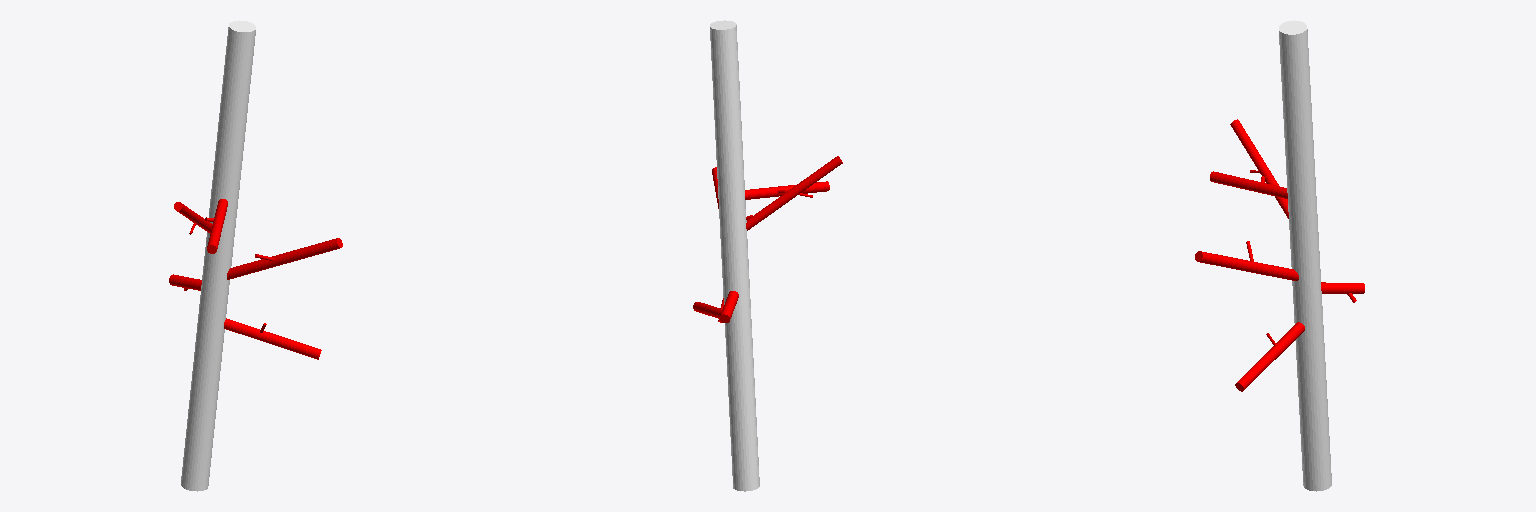
URDF robot description (tree_36.urdf):
<?xml version='1.0' encoding='UTF-8'?>
<robot name="tree_36.urdf">
  <link name="branch_0">
    <inertial>
      <origin xyz="0.0 0.0 0.0" rpy="0.0 -0.0 0.0"/>
      <mass value="0.1"/>
      <inertia ixx="0.001" ixy="0.0" ixz="0.0" iyy="0.001" iyz="0.0" izz="0.001"/>
    </inertial>
    <visual name="branch_0_visual">
      <geometry>
        <cylinder radius="0.18252775451520825" length="6.6563319726581875"/>
      </geometry>
      <material name="branch_material"/>
      <origin xyz="0.27218190189637453 -0.15615376392454944 3.313339983589094" rpy="-6.018720417388292e-18 0.09442476224594877 -0.5208650579187062"/>
    </visual>
    <collision name="branch_0_collision">
      <geometry>
        <cylinder radius="0.18252775451520825" length="6.6563319726581875"/>
      </geometry>
      <origin xyz="0.27218190189637453 -0.15615376392454944 3.313339983589094" rpy="-6.018720417388292e-18 0.09442476224594877 -0.5208650579187062"/>
    </collision>
  </link>
  <link name="branch_1">
    <inertial>
      <origin xyz="0.0 0.0 0.0" rpy="0.0 -0.0 0.0"/>
      <mass value="0.1"/>
      <inertia ixx="0.001" ixy="0.0" ixz="0.0" iyy="0.001" iyz="0.0" izz="0.001"/>
    </inertial>
    <visual name="branch_1_visual">
      <geometry>
        <cylinder radius="0.0707769205520263" length="1.9148131701224318"/>
      </geometry>
      <material name="semantic_material"/>
      <origin xyz="0.0 0.0 0.0" rpy="0.0 -0.0 0.0"/>
    </visual>
    <collision name="branch_1_collision">
      <geometry>
        <cylinder radius="0.0707769205520263" length="1.9148131701224318"/>
      </geometry>
      <origin xyz="0.0 0.0 0.0" rpy="0.0 -0.0 0.0"/>
    </collision>
  </link>
  <link name="branch_2">
    <inertial>
      <origin xyz="0.0 0.0 0.0" rpy="0.0 -0.0 0.0"/>
      <mass value="0.1"/>
      <inertia ixx="0.001" ixy="0.0" ixz="0.0" iyy="0.001" iyz="0.0" izz="0.001"/>
    </inertial>
    <visual name="branch_2_visual">
      <geometry>
        <cylinder radius="0.023799765577774835" length="0.41045364203118045"/>
      </geometry>
      <material name="semantic_material"/>
      <origin xyz="0.0 0.0 0.0" rpy="0.0 -0.0 0.0"/>
    </visual>
    <collision name="branch_2_collision">
      <geometry>
        <cylinder radius="0.023799765577774835" length="0.41045364203118045"/>
      </geometry>
      <origin xyz="0.0 0.0 0.0" rpy="0.0 -0.0 0.0"/>
    </collision>
  </link>
  <link name="branch_3">
    <inertial>
      <origin xyz="0.0 0.0 0.0" rpy="0.0 -0.0 0.0"/>
      <mass value="0.1"/>
      <inertia ixx="0.001" ixy="0.0" ixz="0.0" iyy="0.001" iyz="0.0" izz="0.001"/>
    </inertial>
    <visual name="branch_3_visual">
      <geometry>
        <cylinder radius="0.0679262530888006" length="1.4154738109400073"/>
      </geometry>
      <material name="semantic_material"/>
      <origin xyz="0.0 0.0 0.0" rpy="0.0 -0.0 0.0"/>
    </visual>
    <collision name="branch_3_collision">
      <geometry>
        <cylinder radius="0.0679262530888006" length="1.4154738109400073"/>
      </geometry>
      <origin xyz="0.0 0.0 0.0" rpy="0.0 -0.0 0.0"/>
    </collision>
  </link>
  <link name="branch_4">
    <inertial>
      <origin xyz="0.0 0.0 0.0" rpy="0.0 -0.0 0.0"/>
      <mass value="0.1"/>
      <inertia ixx="0.001" ixy="0.0" ixz="0.0" iyy="0.001" iyz="0.0" izz="0.001"/>
    </inertial>
    <visual name="branch_4_visual">
      <geometry>
        <cylinder radius="0.02547397829348315" length="0.1939897434447357"/>
      </geometry>
      <material name="semantic_material"/>
      <origin xyz="0.0 0.0 0.0" rpy="0.0 -0.0 0.0"/>
    </visual>
    <collision name="branch_4_collision">
      <geometry>
        <cylinder radius="0.02547397829348315" length="0.1939897434447357"/>
      </geometry>
      <origin xyz="0.0 0.0 0.0" rpy="0.0 -0.0 0.0"/>
    </collision>
  </link>
  <link name="branch_5">
    <inertial>
      <origin xyz="0.0 0.0 0.0" rpy="0.0 -0.0 0.0"/>
      <mass value="0.1"/>
      <inertia ixx="0.001" ixy="0.0" ixz="0.0" iyy="0.001" iyz="0.0" izz="0.001"/>
    </inertial>
    <visual name="branch_5_visual">
      <geometry>
        <cylinder radius="0.07297121136275651" length="0.7542755976191018"/>
      </geometry>
      <material name="semantic_material"/>
      <origin xyz="0.0 0.0 0.0" rpy="0.0 -0.0 0.0"/>
    </visual>
    <collision name="branch_5_collision">
      <geometry>
        <cylinder radius="0.07297121136275651" length="0.7542755976191018"/>
      </geometry>
      <origin xyz="0.0 0.0 0.0" rpy="0.0 -0.0 0.0"/>
    </collision>
  </link>
  <link name="branch_6">
    <inertial>
      <origin xyz="0.0 0.0 0.0" rpy="0.0 -0.0 0.0"/>
      <mass value="0.1"/>
      <inertia ixx="0.001" ixy="0.0" ixz="0.0" iyy="0.001" iyz="0.0" izz="0.001"/>
    </inertial>
    <visual name="branch_6_visual">
      <geometry>
        <cylinder radius="0.027116642645557465" length="0.21312557010688385"/>
      </geometry>
      <material name="semantic_material"/>
      <origin xyz="0.0 0.0 0.0" rpy="0.0 -0.0 0.0"/>
    </visual>
    <collision name="branch_6_collision">
      <geometry>
        <cylinder radius="0.027116642645557465" length="0.21312557010688385"/>
      </geometry>
      <origin xyz="0.0 0.0 0.0" rpy="0.0 -0.0 0.0"/>
    </collision>
  </link>
  <link name="branch_7">
    <inertial>
      <origin xyz="0.0 0.0 0.0" rpy="0.0 -0.0 0.0"/>
      <mass value="0.1"/>
      <inertia ixx="0.001" ixy="0.0" ixz="0.0" iyy="0.001" iyz="0.0" izz="0.001"/>
    </inertial>
    <visual name="branch_7_visual">
      <geometry>
        <cylinder radius="0.06162878765710413" length="1.785692265856918"/>
      </geometry>
      <material name="semantic_material"/>
      <origin xyz="0.0 0.0 0.0" rpy="0.0 -0.0 0.0"/>
    </visual>
    <collision name="branch_7_collision">
      <geometry>
        <cylinder radius="0.06162878765710413" length="1.785692265856918"/>
      </geometry>
      <origin xyz="0.0 0.0 0.0" rpy="0.0 -0.0 0.0"/>
    </collision>
  </link>
  <link name="branch_8">
    <inertial>
      <origin xyz="0.0 0.0 0.0" rpy="0.0 -0.0 0.0"/>
      <mass value="0.1"/>
      <inertia ixx="0.001" ixy="0.0" ixz="0.0" iyy="0.001" iyz="0.0" izz="0.001"/>
    </inertial>
    <visual name="branch_8_visual">
      <geometry>
        <cylinder radius="0.016989846778954966" length="0.2852026379213524"/>
      </geometry>
      <material name="semantic_material"/>
      <origin xyz="0.0 0.0 0.0" rpy="0.0 -0.0 0.0"/>
    </visual>
    <collision name="branch_8_collision">
      <geometry>
        <cylinder radius="0.016989846778954966" length="0.2852026379213524"/>
      </geometry>
      <origin xyz="0.0 0.0 0.0" rpy="0.0 -0.0 0.0"/>
    </collision>
  </link>
  <link name="branch_9">
    <inertial>
      <origin xyz="0.0 0.0 0.0" rpy="0.0 -0.0 0.0"/>
      <mass value="0.1"/>
      <inertia ixx="0.001" ixy="0.0" ixz="0.0" iyy="0.001" iyz="0.0" izz="0.001"/>
    </inertial>
    <visual name="branch_9_visual">
      <geometry>
        <cylinder radius="0.06983132591089498" length="1.4924090631606053"/>
      </geometry>
      <material name="semantic_material"/>
      <origin xyz="0.0 0.0 0.0" rpy="0.0 -0.0 0.0"/>
    </visual>
    <collision name="branch_9_collision">
      <geometry>
        <cylinder radius="0.06983132591089498" length="1.4924090631606053"/>
      </geometry>
      <origin xyz="0.0 0.0 0.0" rpy="0.0 -0.0 0.0"/>
    </collision>
  </link>
  <link name="branch_10">
    <inertial>
      <origin xyz="0.0 0.0 0.0" rpy="0.0 -0.0 0.0"/>
      <mass value="0.1"/>
      <inertia ixx="0.001" ixy="0.0" ixz="0.0" iyy="0.001" iyz="0.0" izz="0.001"/>
    </inertial>
    <visual name="branch_10_visual">
      <geometry>
        <cylinder radius="0.019025969618439453" length="0.24958953429171363"/>
      </geometry>
      <material name="semantic_material"/>
      <origin xyz="0.0 0.0 0.0" rpy="0.0 -0.0 0.0"/>
    </visual>
    <collision name="branch_10_collision">
      <geometry>
        <cylinder radius="0.019025969618439453" length="0.24958953429171363"/>
      </geometry>
      <origin xyz="0.0 0.0 0.0" rpy="0.0 -0.0 0.0"/>
    </collision>
  </link>
  <joint name="joint_0_1" type="fixed">
    <parent link="branch_0"/>
    <child link="branch_1"/>
    <axis xyz="1. 0. 0."/>
    <origin xyz="0.7876378964931023 -0.8223792794036655 3.3989373205618127" rpy="-0.08702121404820667 1.1382494325702674 -0.9950477343922902"/>
  </joint>
  <joint name="joint_0_3" type="fixed">
    <parent link="branch_0"/>
    <child link="branch_3"/>
    <axis xyz="1. 0. 0."/>
    <origin xyz="-0.07982879417447172 -0.7617751773124993 4.113775182468633" rpy="-2.261392095829386 1.4489637569225498 1.813098510596245"/>
  </joint>
  <joint name="joint_0_5" type="fixed">
    <parent link="branch_0"/>
    <child link="branch_5"/>
    <axis xyz="1. 0. 0."/>
    <origin xyz="0.11959300651632153 0.22060216468360622 2.790912812965965" rpy="2.7397807022805596 1.405674949078995 -1.6657728021888094"/>
  </joint>
  <joint name="joint_0_7" type="fixed">
    <parent link="branch_0"/>
    <child link="branch_7"/>
    <axis xyz="1. 0. 0."/>
    <origin xyz="-0.2795092751784686 -0.6111446486566761 4.132738105405641" rpy="-0.14425220573339187 0.9411540106756973 -2.6663280079814533"/>
  </joint>
  <joint name="joint_0_9" type="fixed">
    <parent link="branch_0"/>
    <child link="branch_9"/>
    <axis xyz="1. 0. 0."/>
    <origin xyz="0.763570306236317 -0.5498396152929919 2.1884204867710237" rpy="-3.0979229455561548 1.2806520550193619 2.5303023836853358"/>
  </joint>
  <joint name="joint_1_2" type="fixed">
    <parent link="branch_0"/>
    <child link="branch_2"/>
    <axis xyz="1. 0. 0."/>
    <origin xyz="0.6002296380751581 -0.847430286360928 3.4847417471530333" rpy="-1.0311263230705279 0.5442832940373178 2.04915997714814"/>
  </joint>
  <joint name="joint_3_4" type="fixed">
    <parent link="branch_0"/>
    <child link="branch_4"/>
    <axis xyz="1. 0. 0."/>
    <origin xyz="-0.12895095484904617 -0.6967393949191079 4.146356501663753" rpy="-1.2805034652836642 -0.2513163213039945 1.428743710654367"/>
  </joint>
  <joint name="joint_5_6" type="fixed">
    <parent link="branch_0"/>
    <child link="branch_6"/>
    <axis xyz="1. 0. 0."/>
    <origin xyz="0.10990639704974305 0.41581426636566343 2.690062420329937" rpy="-2.4865587224713614 0.3441616297000487 -0.8980643790447922"/>
  </joint>
  <joint name="joint_7_8" type="fixed">
    <parent link="branch_0"/>
    <child link="branch_8"/>
    <axis xyz="1. 0. 0."/>
    <origin xyz="-0.44827214048192987 -0.755519231275112 4.150864215921869" rpy="2.871354872007422 1.2447245918841394 0.458045052459116"/>
  </joint>
  <joint name="joint_9_10" type="fixed">
    <parent link="branch_0"/>
    <child link="branch_10"/>
    <axis xyz="1. 0. 0."/>
    <origin xyz="0.6990607623645377 -0.566868593617899 2.31803279432841" rpy="-0.45108258194352013 -0.36382306225444755 2.5219722100134954"/>
  </joint>
  <material name="branch_material">
    <color rgba="1. 1. 1. 1."/>
  </material>
  <material name="semantic_material">
    <color rgba="1. 0. 0. 1."/>
  </material>
</robot>

--- Facts derived from the render (not from the file) ---
3 views of the same robot in one strip: view 1: azimuth 30°, elevation 25°; view 2: azimuth 150°, elevation 25°; view 3: azimuth 270°, elevation 25° (orthographic).
Robot: tree_36.urdf — 11 links, 10 joints (10 fixed); root link branch_0; default pose: all joints at 0.
Links seen in each view (by area): view 1: branch_0, branch_1, branch_9, branch_3; view 2: branch_0, branch_7, branch_3; view 3: branch_0, branch_1, branch_9, branch_7, branch_3.
Link boxes in pixels (left/top/right/bottom): branch_0: left=181, top=20, right=255, bottom=491; branch_1: left=227, top=238, right=342, bottom=279; branch_9: left=224, top=318, right=321, bottom=359; branch_3: left=207, top=199, right=227, bottom=253; branch_0: left=710, top=20, right=759, bottom=491; branch_7: left=746, top=156, right=842, bottom=230; branch_3: left=745, top=181, right=829, bottom=199; branch_0: left=1279, top=20, right=1331, bottom=491; branch_1: left=1195, top=251, right=1298, bottom=280; branch_9: left=1235, top=322, right=1304, bottom=391; branch_7: left=1230, top=119, right=1288, bottom=218; branch_3: left=1210, top=171, right=1287, bottom=198.
Size in the robot's own frame: 2.29 by 2.15 by 6.66 metres.
Geometry: primitives only (box / cylinder / sphere), no mesh files.